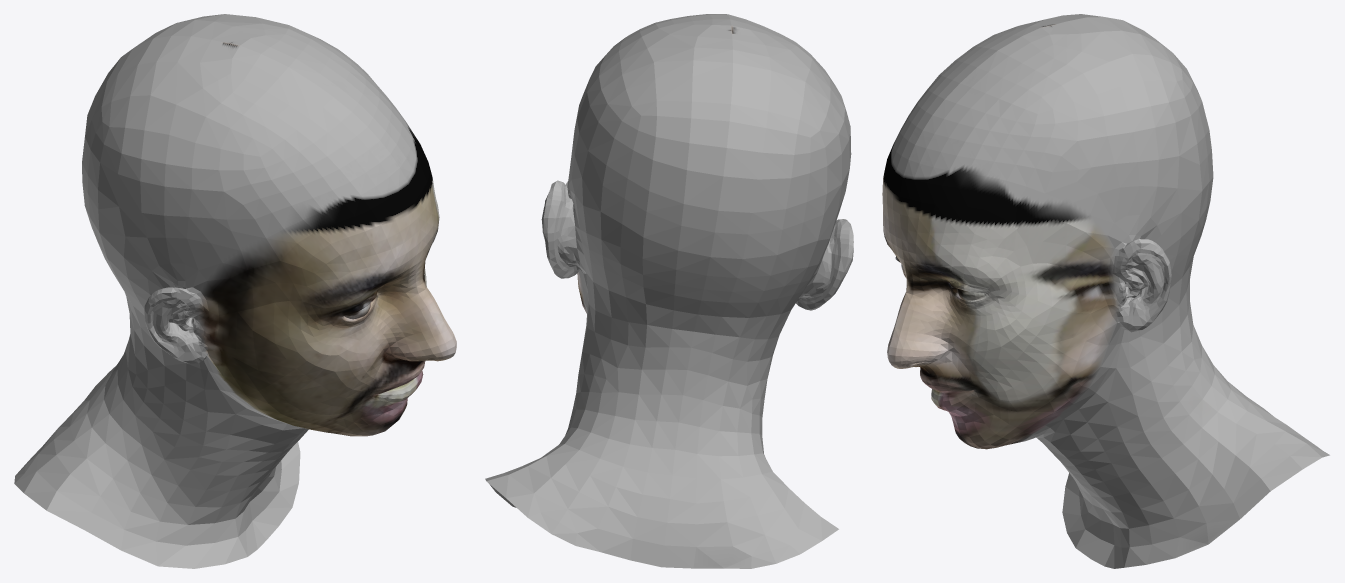
The model's file is ezgif-frame-056.obj.
3 views of the same model, side by side, from view 1: azimuth 30°, elevation 25°; view 2: azimuth 150°, elevation 25°; view 3: azimuth 270°, elevation 25° (orthographic). The views are drawn at different scales.
Bounding box in the file's own units: 0.2017 × 0.3227 × 0.2561.
Materials: 1 (1 with a texture image).
